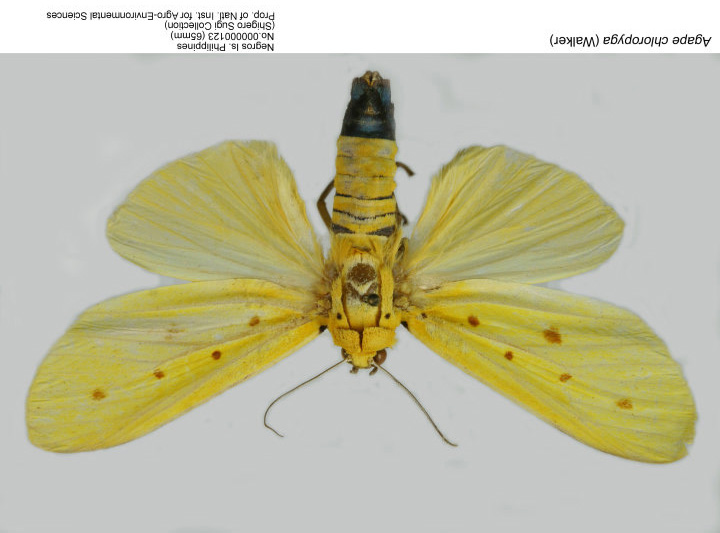Agape chloropyga: (21, 67, 698, 485)
moth: (23, 69, 700, 487)
